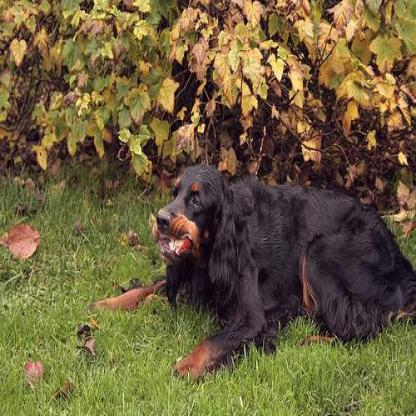Gordon_setter: (89, 162, 414, 384)
